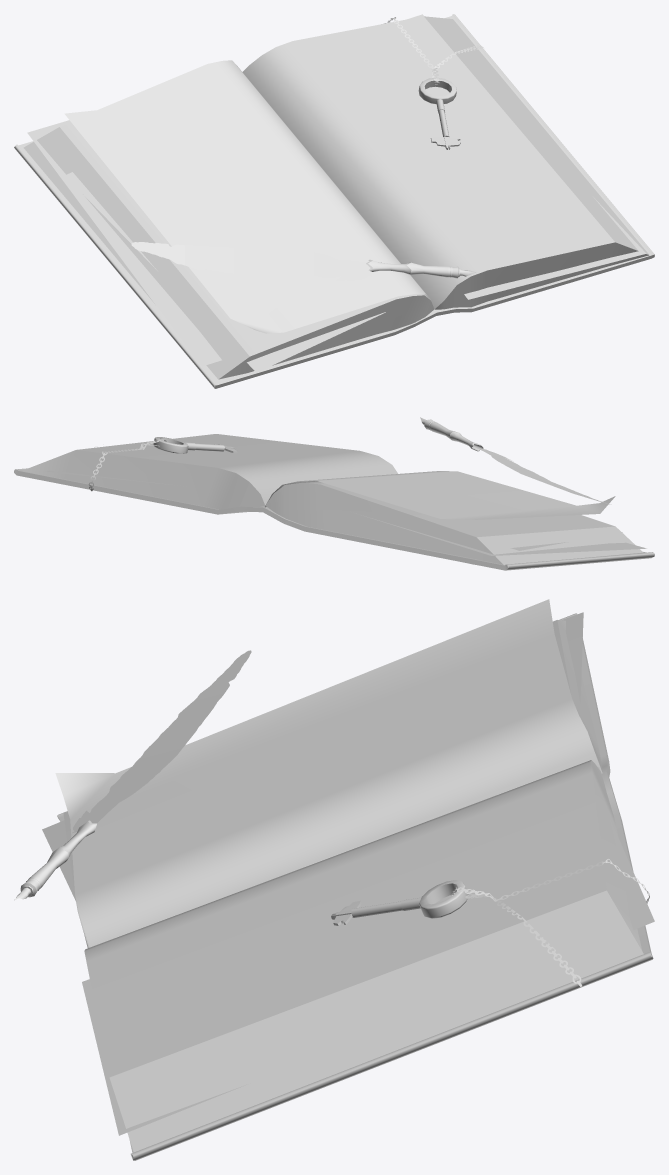
The model's file is content.glb.
The picture shows the model from 3 angles, top to bottom: view 1: azimuth 30°, elevation 25°; view 2: azimuth 150°, elevation 25°; view 3: azimuth 270°, elevation 25°; orthographic projection. The views are drawn at different scales.
Visible parts, largest first — view 1: Book_sheets_Books_Material_0.001, Loose_sheet_03_Books_Material_0.001, Book_frame_Books_Material_0.001, Quill_Feather_Books_Material_0.001, Loose_sheet_02_Books_Material_0.001, Lloose_sheet_01_Books_Material_0.001, Loose_Sheet_04_Books_Material_0.001, Quill_Body_Books_Material_0.001, Key_circle_Books_Material_0.001; view 2: Book_sheets_Books_Material_0.001, Loose_sheet_03_Books_Material_0.001, Book_frame_Books_Material_0.001, Loose_sheet_02_Books_Material_0.001, Quill_Feather_Books_Material_0.001, Quill_Body_Books_Material_0.001, Key_circle_Books_Material_0.001, Plane2_Books_Material_0.001, Key_stick_Books_Material_0.001; view 3: Book_sheets_Books_Material_0.001, Loose_sheet_03_Books_Material_0.001, Book_frame_Books_Material_0.001, Quill_Feather_Books_Material_0.001, Loose_Sheet_04_Books_Material_0.001, Key_circle_Books_Material_0.001, Quill_Body_Books_Material_0.001, Loose_sheet_02_Books_Material_0.001.
Part boxes in pixels (<box>): Book_sheets_Books_Material_0.001: <box>23,16,649,379</box>; Loose_sheet_03_Books_Material_0.001: <box>64,60,432,333</box>; Book_frame_Books_Material_0.001: <box>14,14,654,388</box>; Quill_Feather_Books_Material_0.001: <box>131,242,371,281</box>; Loose_sheet_02_Books_Material_0.001: <box>27,120,221,366</box>; Lloose_sheet_01_Books_Material_0.001: <box>65,172,385,372</box>; Loose_Sheet_04_Books_Material_0.001: <box>407,14,646,299</box>; Quill_Body_Books_Material_0.001: <box>366,259,460,278</box>; Key_circle_Books_Material_0.001: <box>418,77,456,104</box>; Book_sheets_Books_Material_0.001: <box>22,434,642,564</box>; Loose_sheet_03_Books_Material_0.001: <box>265,471,615,519</box>; Book_frame_Books_Material_0.001: <box>14,468,654,570</box>; Loose_sheet_02_Books_Material_0.001: <box>356,513,646,555</box>; Quill_Feather_Books_Material_0.001: <box>473,446,611,504</box>; Quill_Body_Books_Material_0.001: <box>424,419,483,451</box>; Key_circle_Books_Material_0.001: <box>153,437,188,453</box>; Plane2_Books_Material_0.001: <box>88,439,166,491</box>; Key_stick_Books_Material_0.001: <box>185,442,224,451</box>; Book_sheets_Books_Material_0.001: <box>63,620,643,1152</box>; Loose_sheet_03_Books_Material_0.001: <box>55,599,602,947</box>; Book_frame_Books_Material_0.001: <box>57,613,653,1160</box>; Quill_Feather_Books_Material_0.001: <box>72,650,251,833</box>; Loose_Sheet_04_Books_Material_0.001: <box>82,815,654,1135</box>; Key_circle_Books_Material_0.001: <box>419,880,468,918</box>; Quill_Body_Books_Material_0.001: <box>20,820,96,897</box>; Loose_sheet_02_Books_Material_0.001: <box>562,612,583,703</box>.
Size of the model in its own units: 159 by 49.66 by 119.
Materials: 1 (1 with a texture image).
